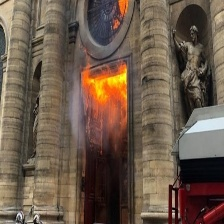fire: (80, 58, 132, 143), (106, 1, 133, 41)
